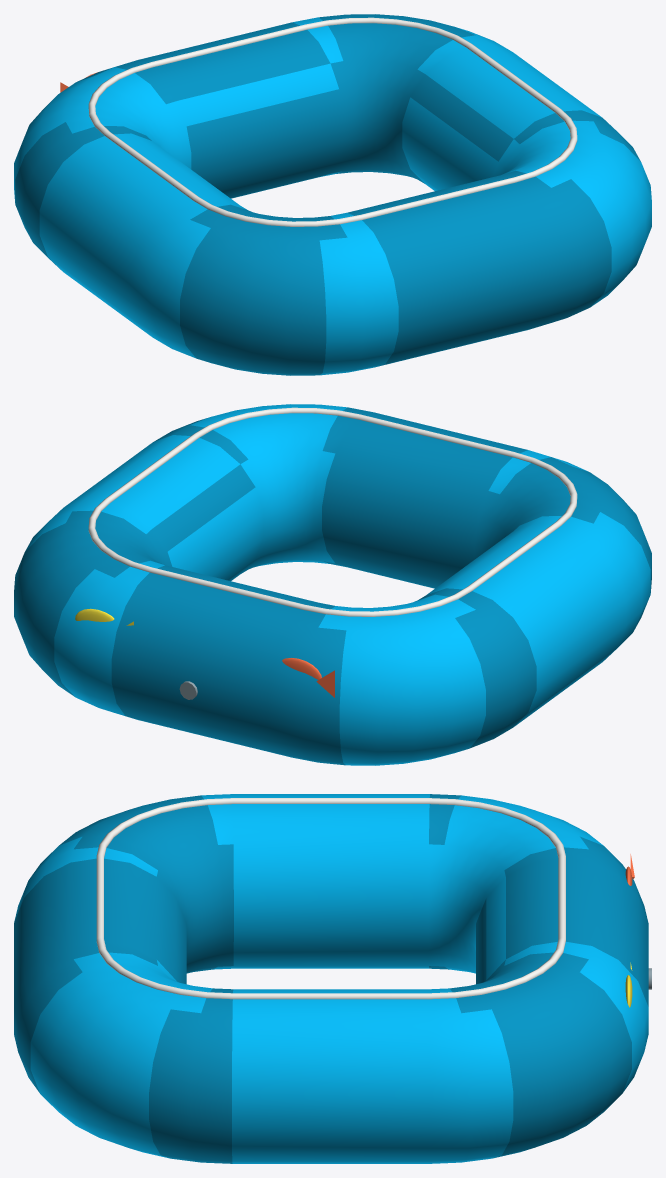
File: kiddie_pool.fbx
The picture shows the model from 3 angles, top to bottom: view 1: azimuth 30°, elevation 25°; view 2: azimuth 150°, elevation 25°; view 3: azimuth 270°, elevation 25°; orthographic projection. The views are drawn at different scales.
Visible parts, largest first — view 1: Kiddie Pool; view 2: Kiddie Pool; view 3: Kiddie Pool.
Boxes of the visible parts, <box> form: Kiddie Pool: <box>14,14,651,375</box>; Kiddie Pool: <box>14,404,651,765</box>; Kiddie Pool: <box>14,794,651,1163</box>.
Size of the model in its own units: 2.97 by 0.84 by 2.98.
